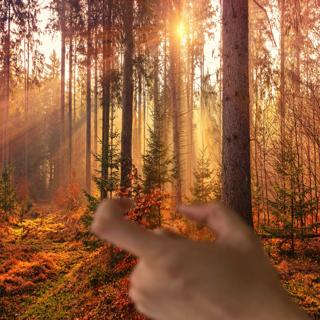HATE: (85, 190, 302, 320)
